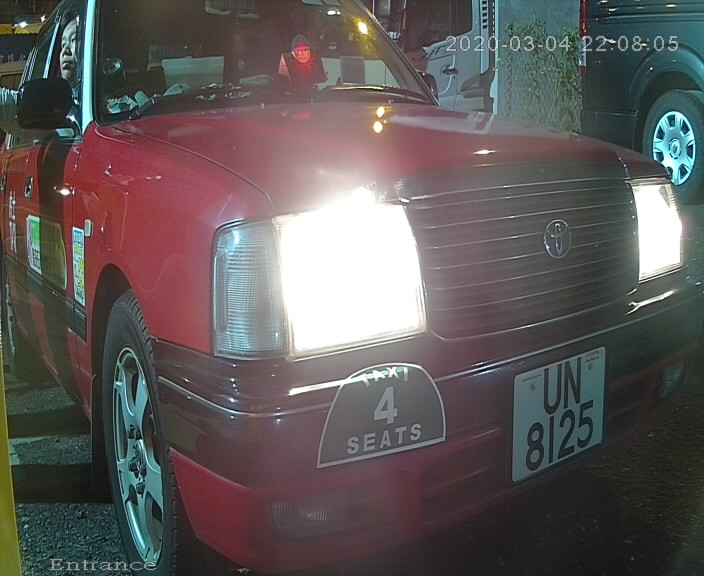taxi: (28, 10, 695, 576)
taxi_mark: (304, 349, 458, 482)
